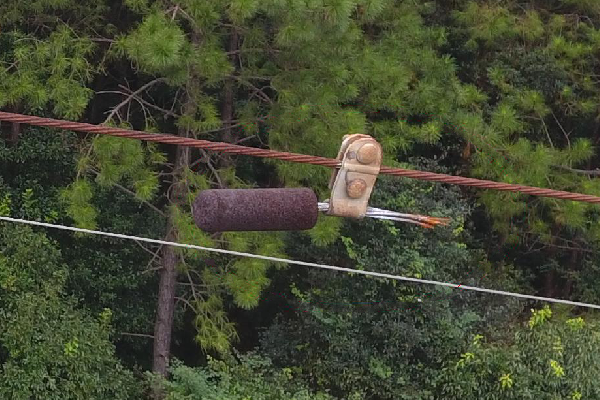damper_defect: (184, 125, 453, 235)
